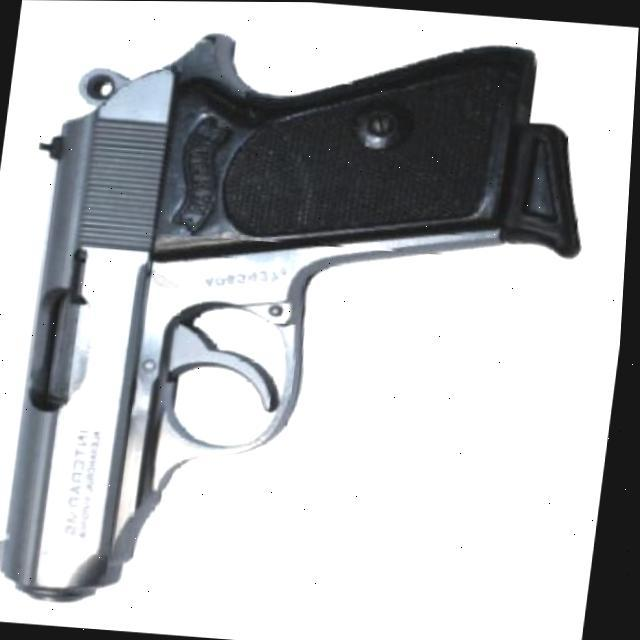gun: (0, 4, 608, 640)
